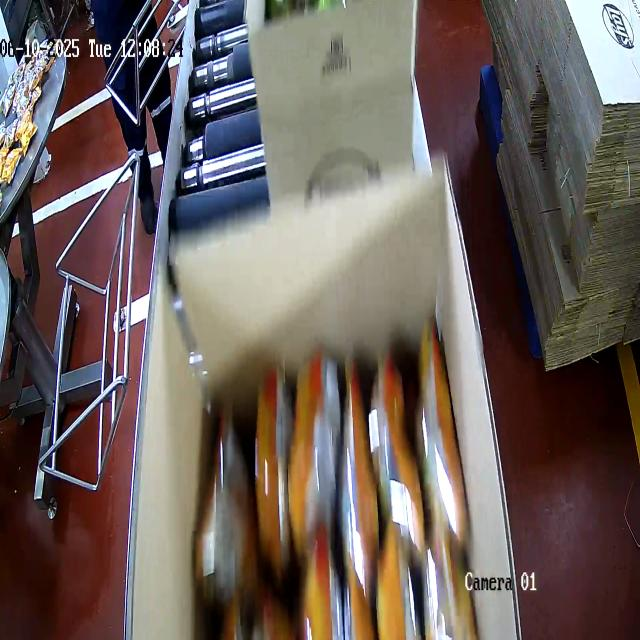FRENCH_CHEESE: (204, 341, 471, 640)
